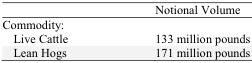table: (1, 0, 249, 59)
table column: (110, 0, 249, 59), (1, 0, 110, 59)
table column header: (1, 0, 249, 16)
table projected row header: (1, 16, 249, 30)
table row: (1, 0, 249, 16), (1, 44, 249, 59), (1, 16, 249, 30), (1, 30, 249, 44)
